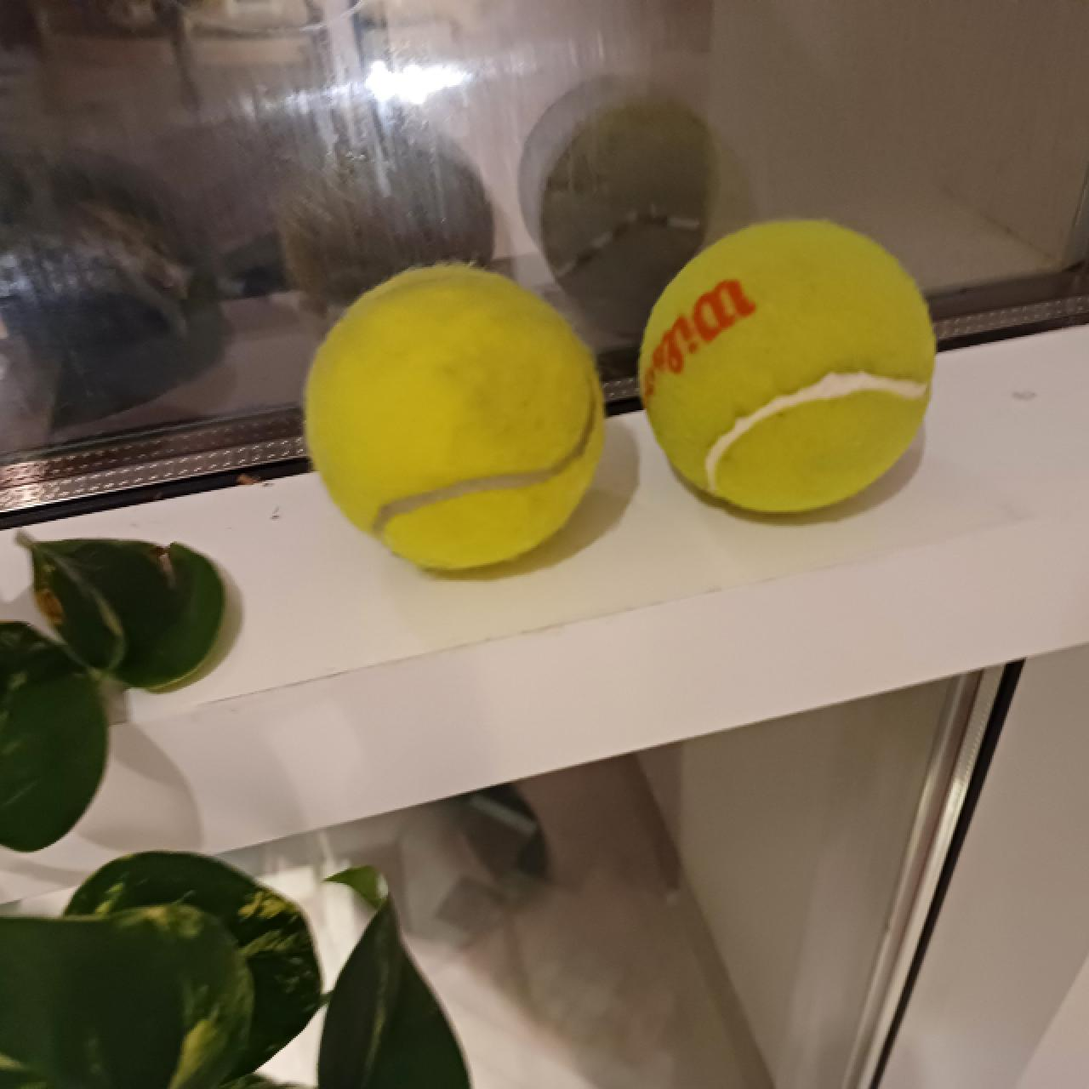tennis-ball: (306, 265, 605, 573), (639, 220, 936, 514)
